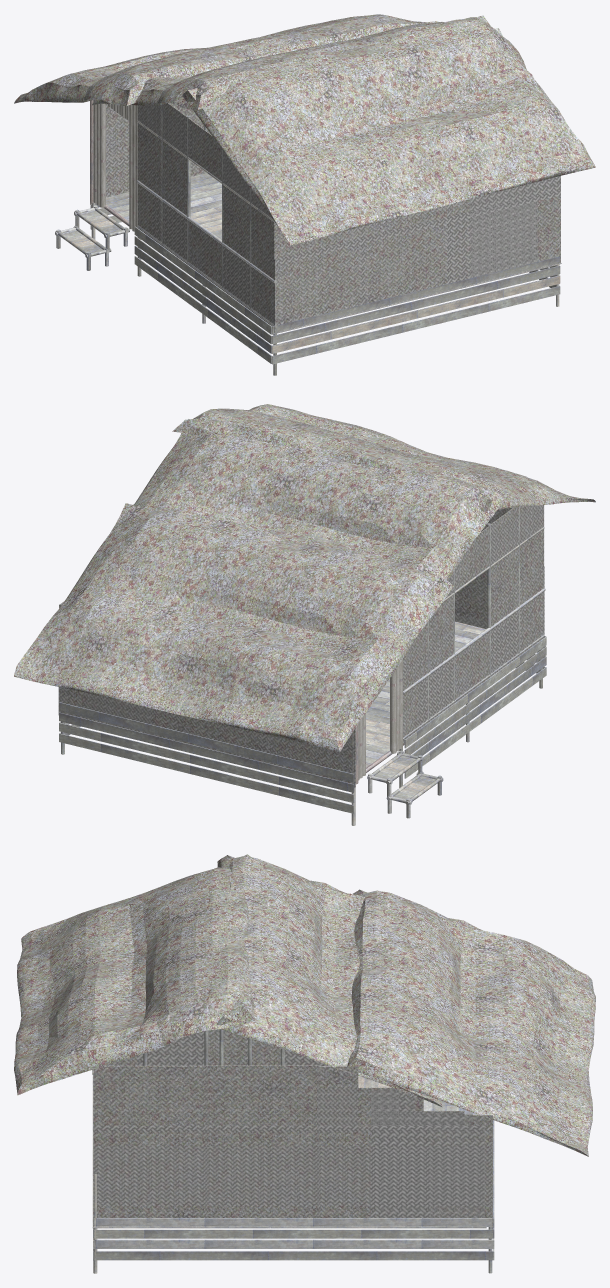
The picture shows the model from 3 angles, top to bottom: view 1: azimuth 30°, elevation 25°; view 2: azimuth 150°, elevation 25°; view 3: azimuth 270°, elevation 25°; orthographic projection. The views are drawn at different scales.
Parts seen in each view (by area): view 1: Meshpart1, Meshpart3, Part71, Part6, Part57, Part70, Part13, Part56, Meshpart2, Part235, Part132, Part228 (+41 smaller); view 2: Meshpart3, Meshpart2, Meshpart1, Part139, Part132, Part131, Part228, Part227, Part295, Part297, Part296, Part294 (+29 smaller); view 3: Meshpart3, Meshpart1, Meshpart2, Part149, Part184, Part100, Part93, Part29, Part315, Part92, Part28, Part107 (+32 smaller).
Boxes of the visible parts, x1,y1,x2,y2 form: Meshpart1: (182, 15, 595, 245); Meshpart3: (14, 14, 438, 105); Part71: (275, 237, 364, 324); Part6: (470, 189, 560, 277); Part57: (361, 217, 450, 304); Part70: (275, 239, 364, 324); Part13: (447, 201, 536, 283); Part56: (361, 218, 446, 303); Meshpart2: (92, 22, 502, 109); Part235: (137, 105, 186, 200); Part132: (223, 222, 274, 332); Part228: (137, 160, 187, 264); Meshpart3: (14, 503, 453, 752); Meshpart2: (134, 419, 504, 580); Meshpart1: (172, 404, 595, 511); Part139: (491, 505, 543, 611); Part132: (491, 567, 544, 675); Part131: (491, 568, 543, 675); Part228: (403, 633, 454, 745); Part227: (403, 638, 453, 745); Part295: (59, 712, 354, 792); Part297: (59, 733, 354, 813); Part296: (59, 722, 354, 802); Part294: (59, 702, 354, 782); Meshpart3: (347, 889, 595, 1156); Meshpart1: (14, 854, 254, 1095); Meshpart2: (216, 855, 442, 1106); Part149: (205, 1126, 319, 1205); Part184: (317, 1126, 430, 1205); Part100: (94, 1126, 207, 1205); Part93: (205, 1146, 319, 1217); Part29: (94, 1146, 207, 1217); Part315: (371, 1126, 484, 1205); Part92: (207, 1146, 318, 1217); Part28: (94, 1146, 206, 1217); Part107: (93, 1066, 207, 1131).
Size of the model in its own units: 30.99 by 22.02 by 42.91.
8 materials, 8 textured.
